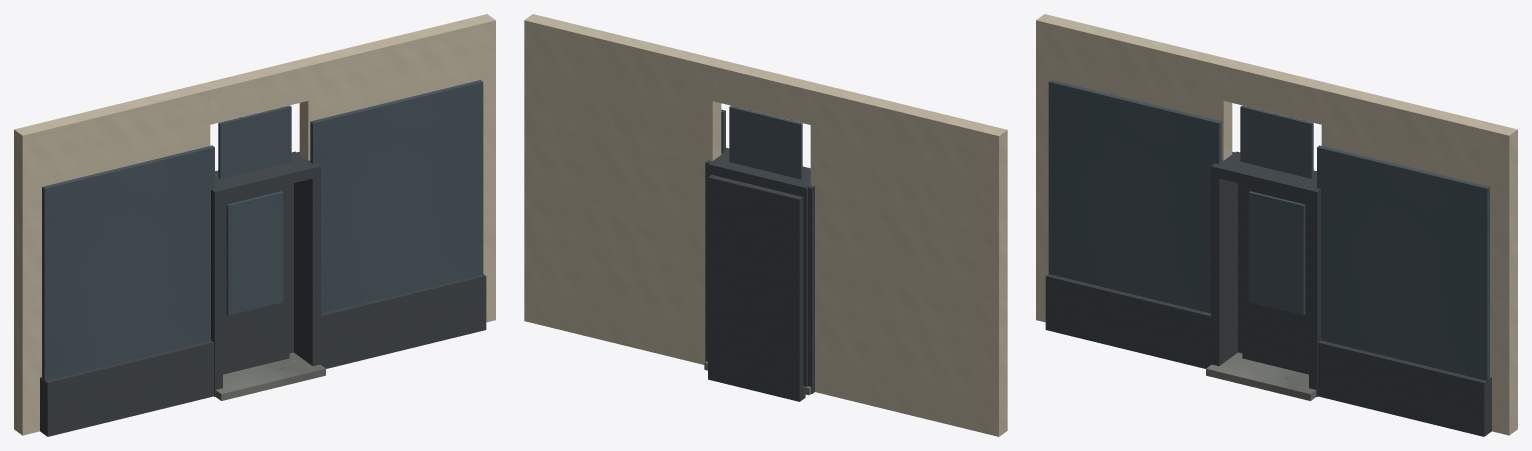
The model's file is storefront-art-deco.lod2.gltf.
3 renders of one model, left to right at view 1: azimuth 30°, elevation 25°; view 2: azimuth 150°, elevation 25°; view 3: azimuth 330°, elevation 25°, orthographic.
Visible parts, largest first — view 1: storefront-art-deco; view 2: storefront-art-deco; view 3: storefront-art-deco.
Boxes of the visible parts, x1,y1,x2,y2 form: storefront-art-deco: (14,14,495,436); storefront-art-deco: (524,14,1007,436); storefront-art-deco: (1036,14,1517,436).
Size of the model in its own units: 5.7 by 3.52 by 0.64.
4 materials, 4 textured.
